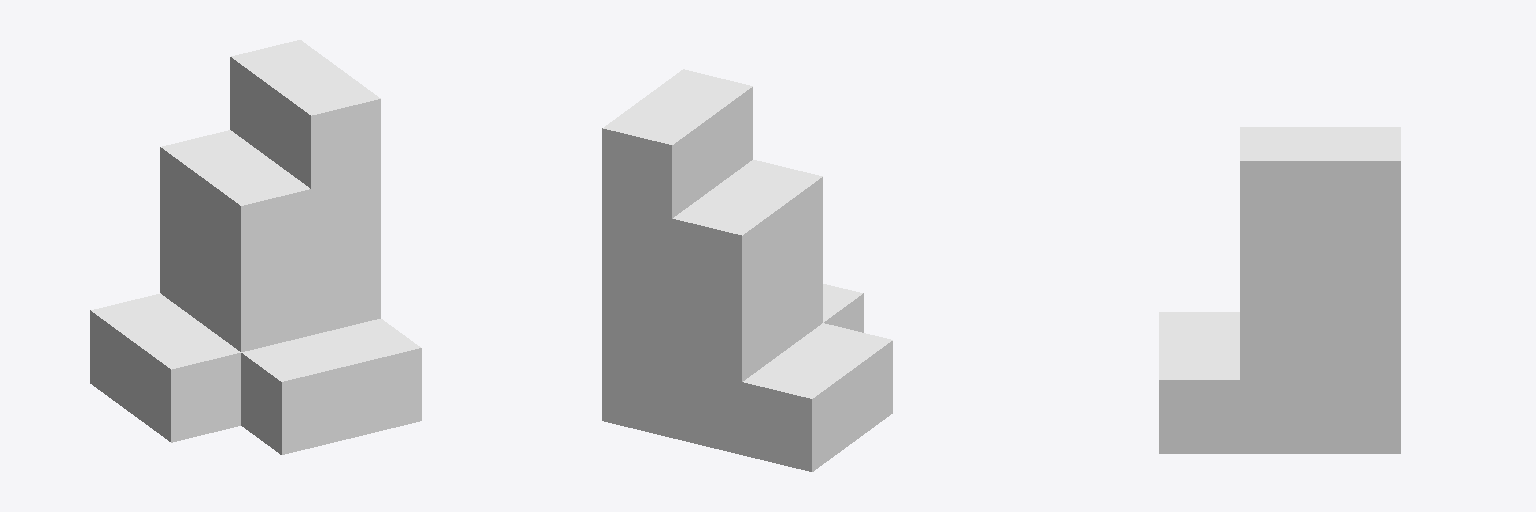
The model's file is MageArm.obj.
3 renders of one model, left to right at view 1: azimuth 30°, elevation 25°; view 2: azimuth 150°, elevation 25°; view 3: azimuth 270°, elevation 25°, orthographic.
Bounding box in the file's own units: 3 × 4 × 3.